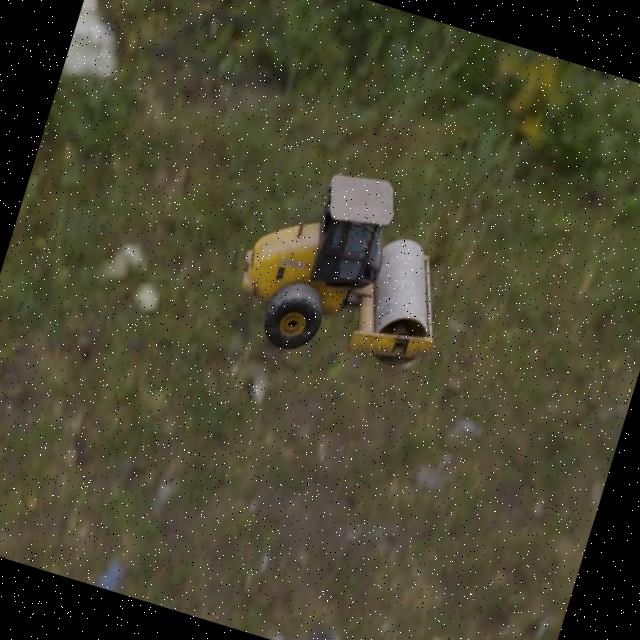Roller: (222, 147, 474, 390)
